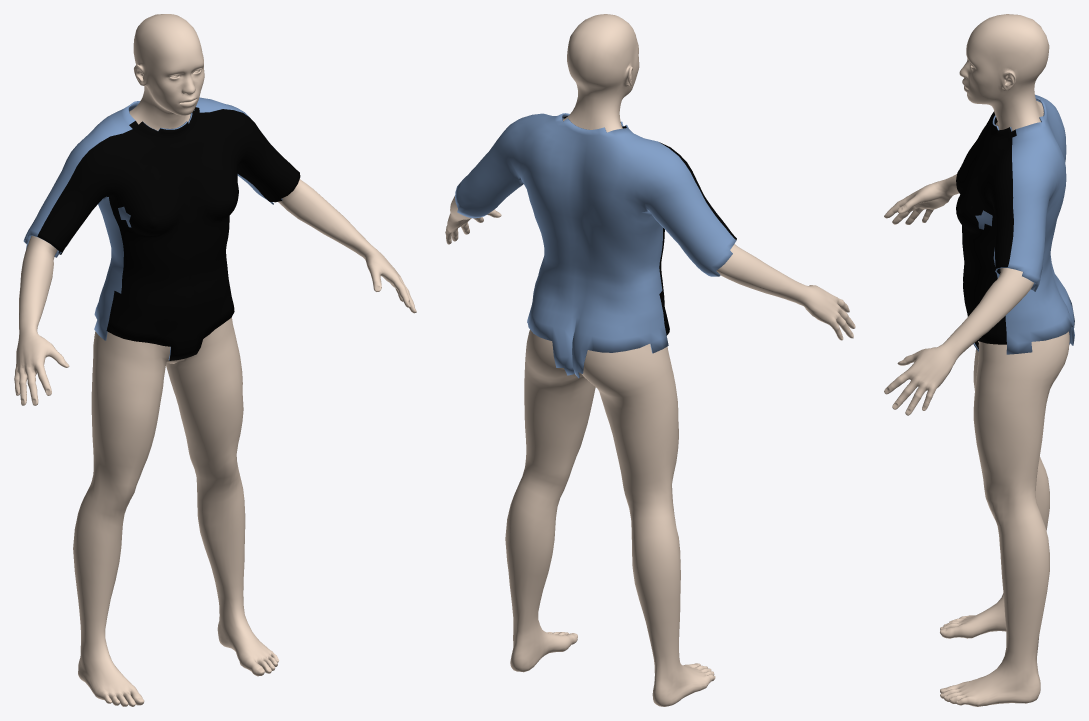
File: avatar_050c2d5170fa.glb
3 views of the same model, side by side, from view 1: azimuth 30°, elevation 25°; view 2: azimuth 150°, elevation 25°; view 3: azimuth 270°, elevation 25° (orthographic).
Visible parts, largest first — view 1: Human_gen, garment_tshirt; view 2: Human_gen, garment_tshirt; view 3: Human_gen, garment_tshirt.
Boxes of the visible parts, box(x1,y1,x2,y2) form: Human_gen: box(14, 14, 416, 706); garment_tshirt: box(23, 97, 300, 360); Human_gen: box(445, 14, 855, 706); garment_tshirt: box(455, 113, 736, 378); Human_gen: box(884, 14, 1069, 706); garment_tshirt: box(956, 94, 1074, 354).
Bounding box in the file's own units: 1.05 × 1.66 × 0.4421.
Materials: 3 (1 with a texture image).
